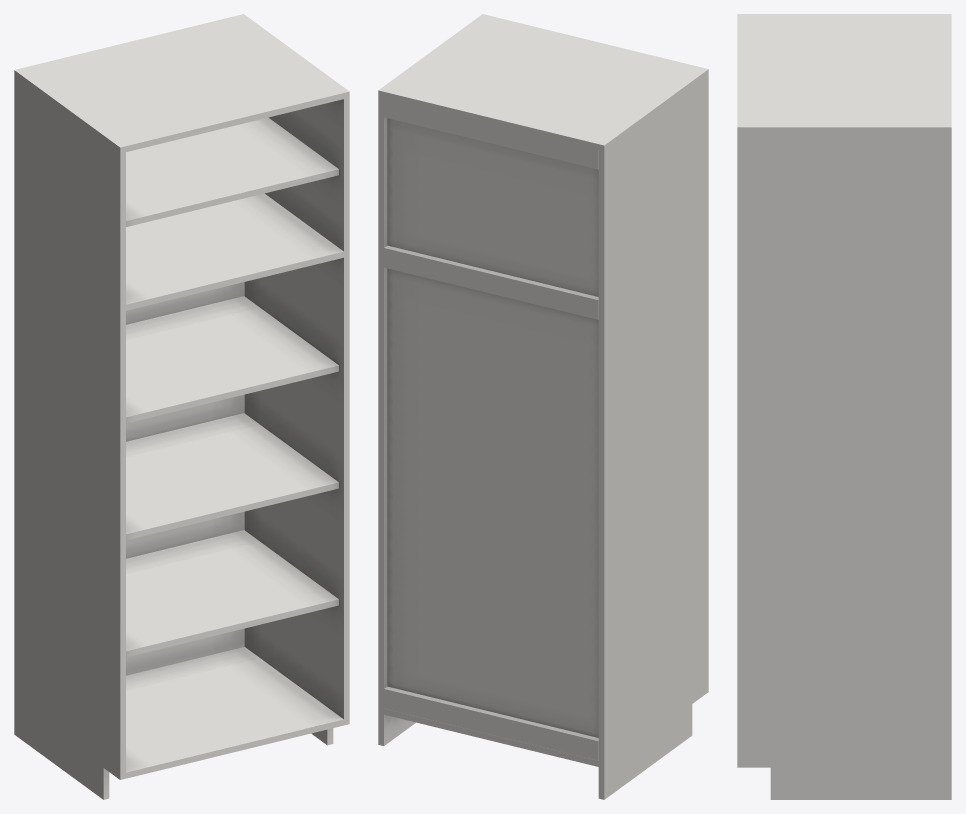
The model's file is tall-2-door-doors-off.glb.
The picture shows the model from 3 angles, left to right: view 1: azimuth 30°, elevation 25°; view 2: azimuth 150°, elevation 25°; view 3: azimuth 270°, elevation 25°; orthographic projection. The views are drawn at different scales.
Parts seen in each view (by area): view 1: part_0; view 2: part_0; view 3: part_0.
Part boxes in pixels (bbox=[...]): part_0: bbox=[14, 14, 349, 799]; part_0: bbox=[378, 14, 708, 799]; part_0: bbox=[737, 14, 951, 799].
Bounding box in the file's own units: 0.7621 × 2.11 × 0.6096.
1 material, 1 textured.
